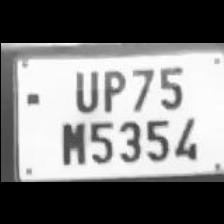3: (114, 116, 142, 162)
4: (170, 110, 200, 160)
5: (141, 112, 170, 160), (154, 62, 184, 108), (84, 117, 114, 163)
7: (125, 63, 154, 109)
M: (55, 116, 87, 164)
P: (96, 64, 126, 110)
U: (68, 65, 100, 111)
